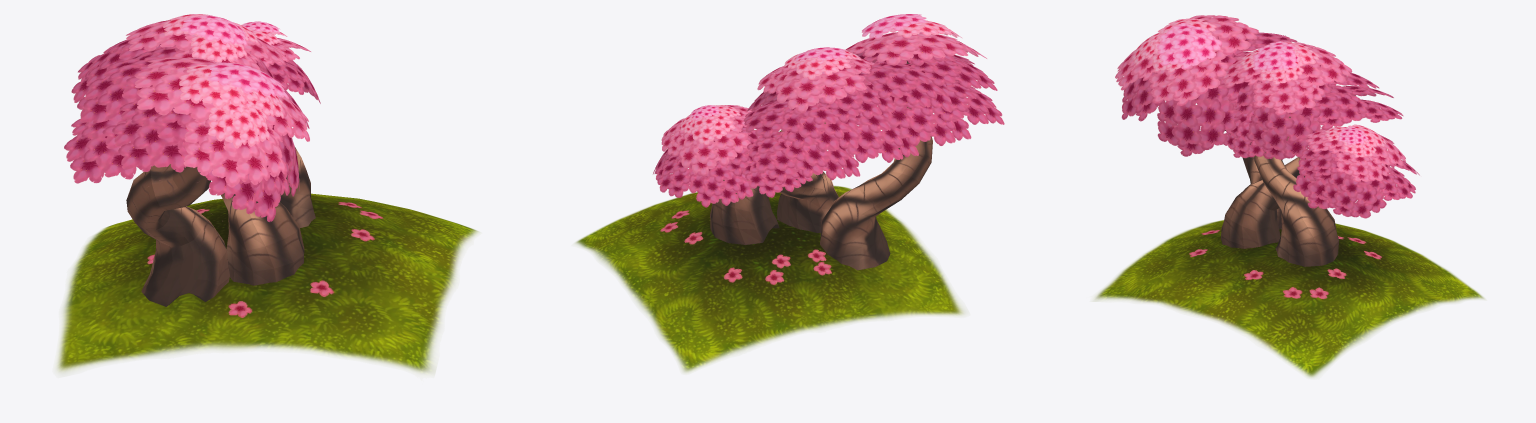
File: cherry_tree.glb
The picture shows the model from 3 angles, left to right: view 1: azimuth 30°, elevation 25°; view 2: azimuth 150°, elevation 25°; view 3: azimuth 270°, elevation 25°; orthographic projection. The views are drawn at different scales.
Visible parts, largest first — view 1: Plane.000, Plane.002, Plane.001; view 2: Plane.002, Plane.000, Plane.001; view 3: Plane.002, Plane.000, Plane.001.
Part boxes in pixels (x1,y1,x2,y2): Plane.000: (57,193,478,372); Plane.002: (64,14,320,222); Plane.001: (126,147,315,306); Plane.002: (653,14,1004,207); Plane.000: (576,186,963,372); Plane.001: (710,61,932,270); Plane.002: (1115,15,1419,218); Plane.000: (1095,220,1483,377); Plane.001: (1220,116,1339,266).
Size of the model in its own units: 25.4 by 15.53 by 25.32.
3 materials, 3 textured.
